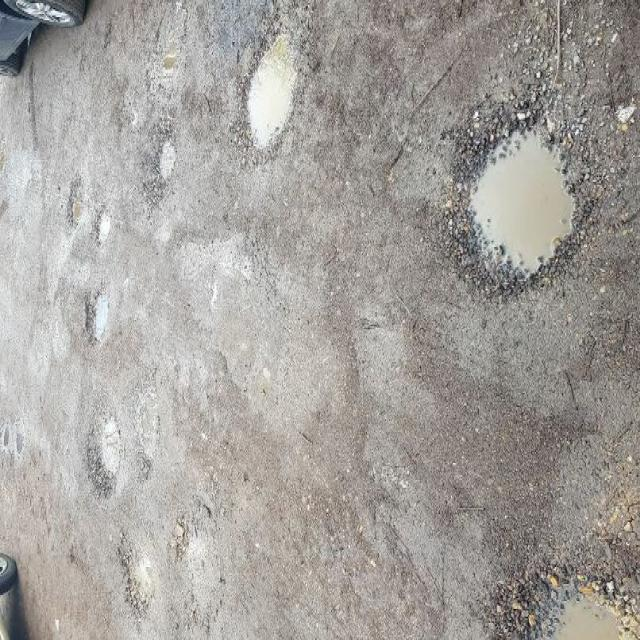pothole: (444, 84, 592, 311), (490, 548, 640, 638), (240, 11, 310, 154), (81, 398, 127, 498), (149, 112, 178, 191), (82, 280, 114, 338), (60, 171, 84, 230), (93, 199, 113, 247)
